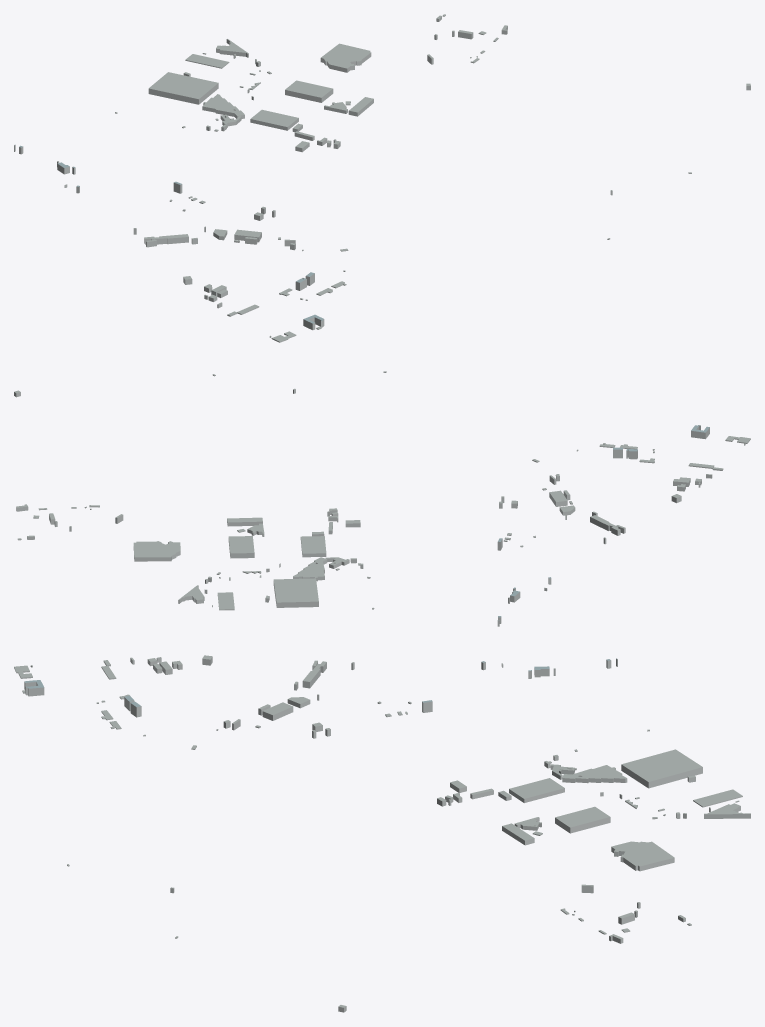
Rendered from far.glb.
3 renders of one model, top to bottom at view 1: azimuth 30°, elevation 25°; view 2: azimuth 150°, elevation 25°; view 3: azimuth 270°, elevation 25°, orthographic. The views are drawn at different scales.
Bounding box in the file's own units: 1895 × 26 × 1680.
